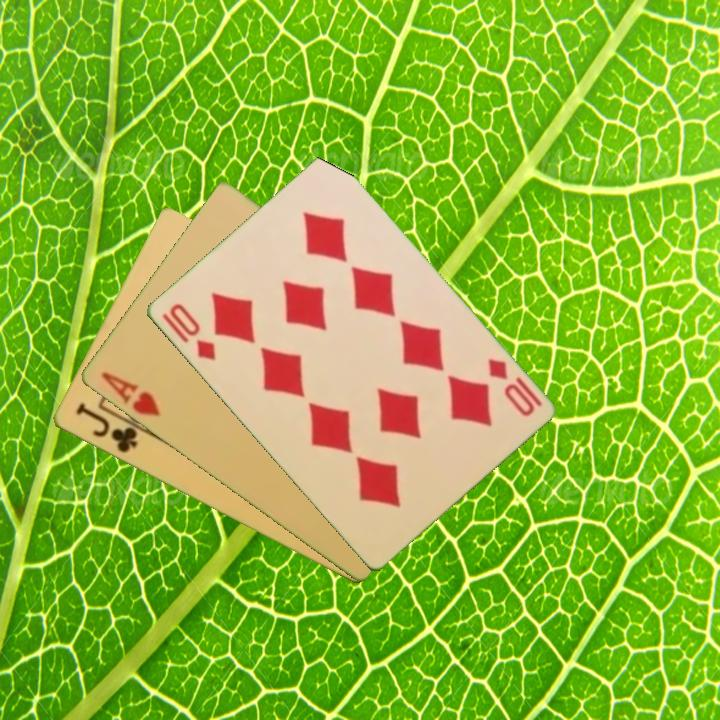10d: (483, 355, 545, 420), (165, 299, 219, 364)
Ah: (97, 368, 162, 420)
Jc: (71, 399, 140, 457)
